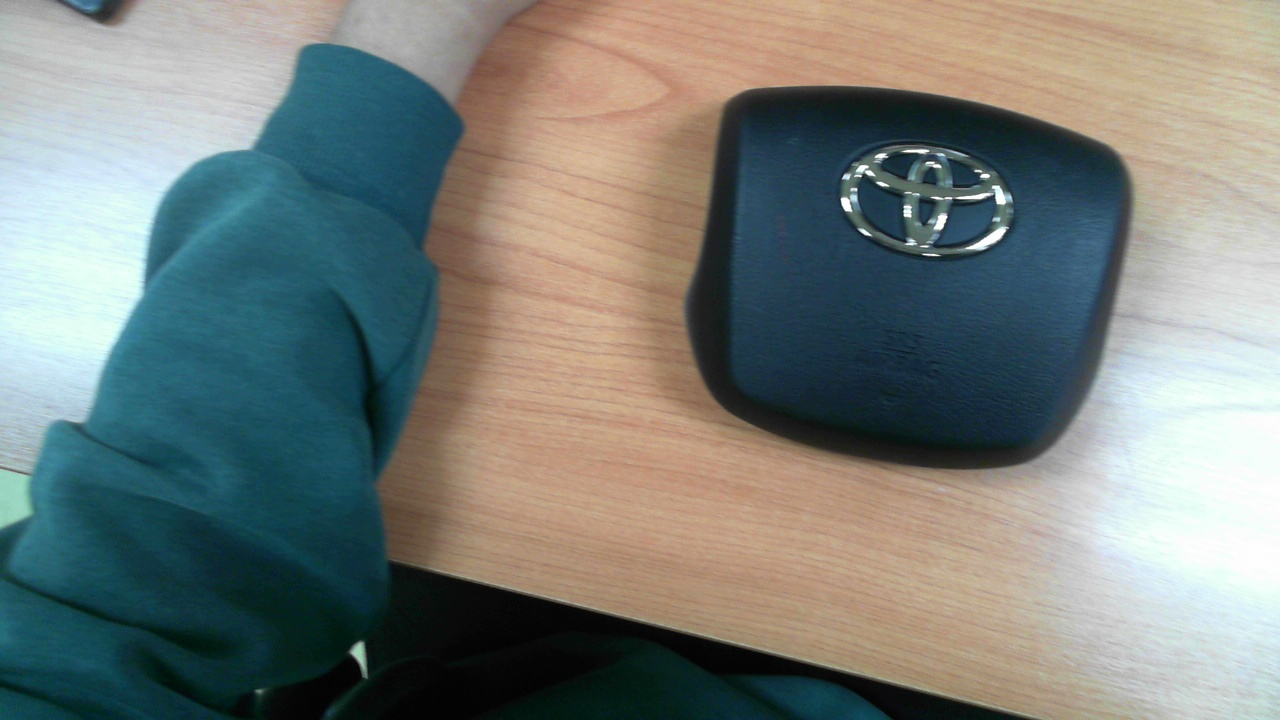Airbag: (685, 85, 1132, 470)
Toyota: (840, 144, 1014, 257)
